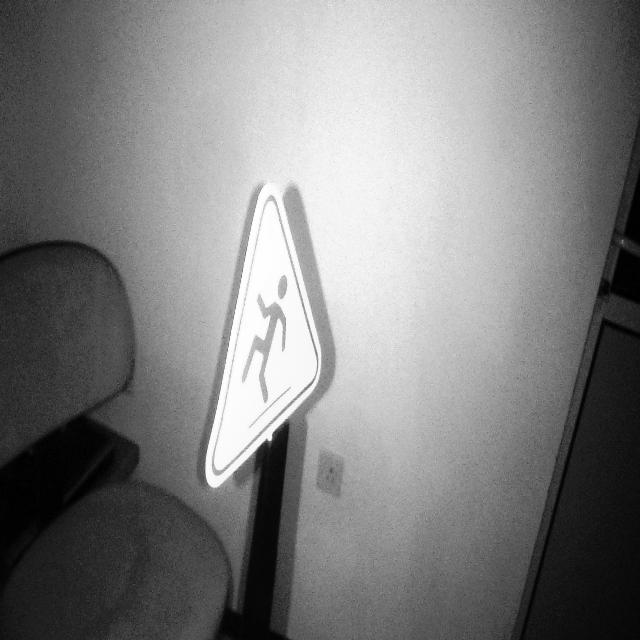Sign: (204, 182, 323, 491)
